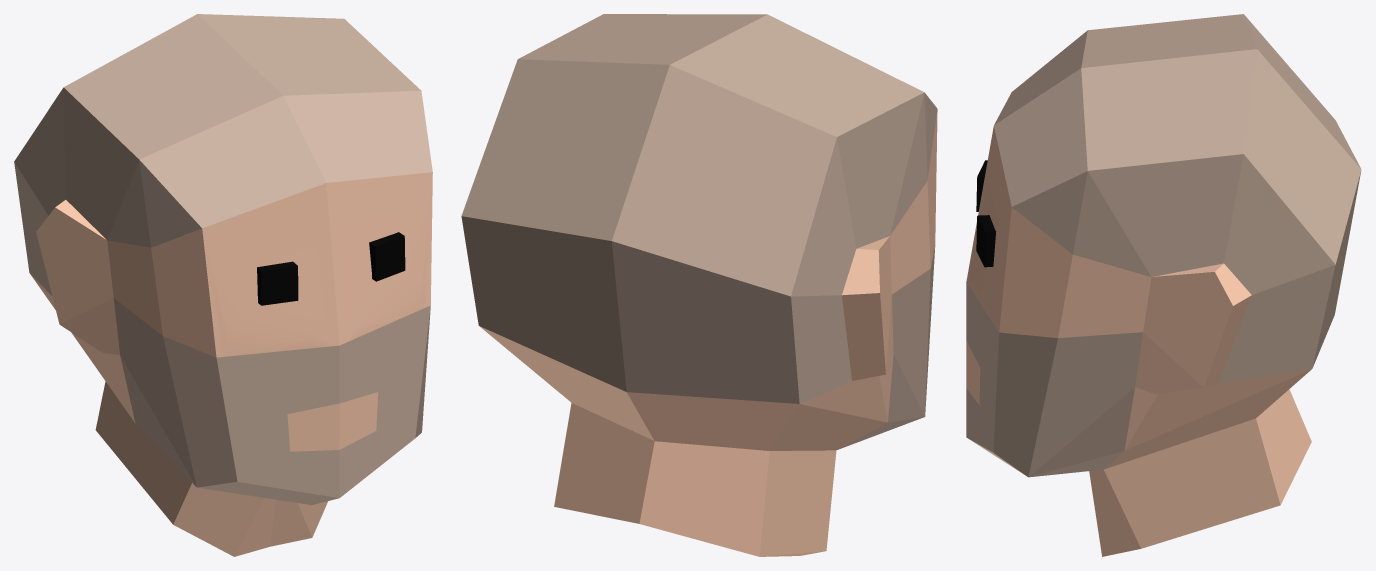
The model's file is Chr_Head_Male_15_Static.fbx.
3 views of the same model, side by side, from view 1: azimuth 30°, elevation 25°; view 2: azimuth 150°, elevation 25°; view 3: azimuth 270°, elevation 25° (orthographic). The views are drawn at different scales.
Visible parts, largest first — view 1: Chr_Head_Male_15_Static; view 2: Chr_Head_Male_15_Static; view 3: Chr_Head_Male_15_Static.
Boxes of the visible parts, x1=… form: Chr_Head_Male_15_Static: x1=14, y1=14, x2=432, y2=556; Chr_Head_Male_15_Static: x1=461, y1=14, x2=937, y2=556; Chr_Head_Male_15_Static: x1=966, y1=14, x2=1361, y2=556.
Size of the model in its own units: 0.2661 by 0.3523 by 0.2574.
